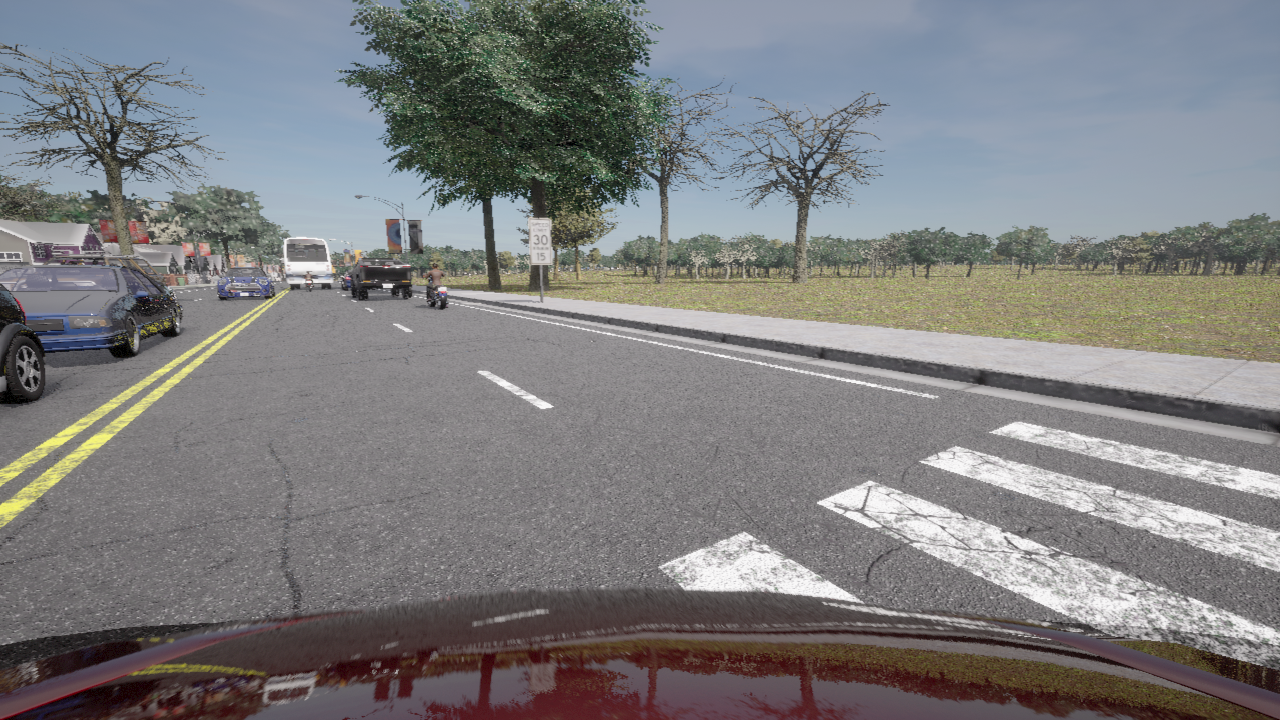cyclist: (0, 588, 1279, 719), (0, 264, 182, 357), (42, 250, 167, 285), (350, 257, 412, 300), (281, 237, 332, 288), (217, 267, 274, 299), (426, 277, 448, 309), (341, 269, 352, 290), (306, 277, 312, 290)
